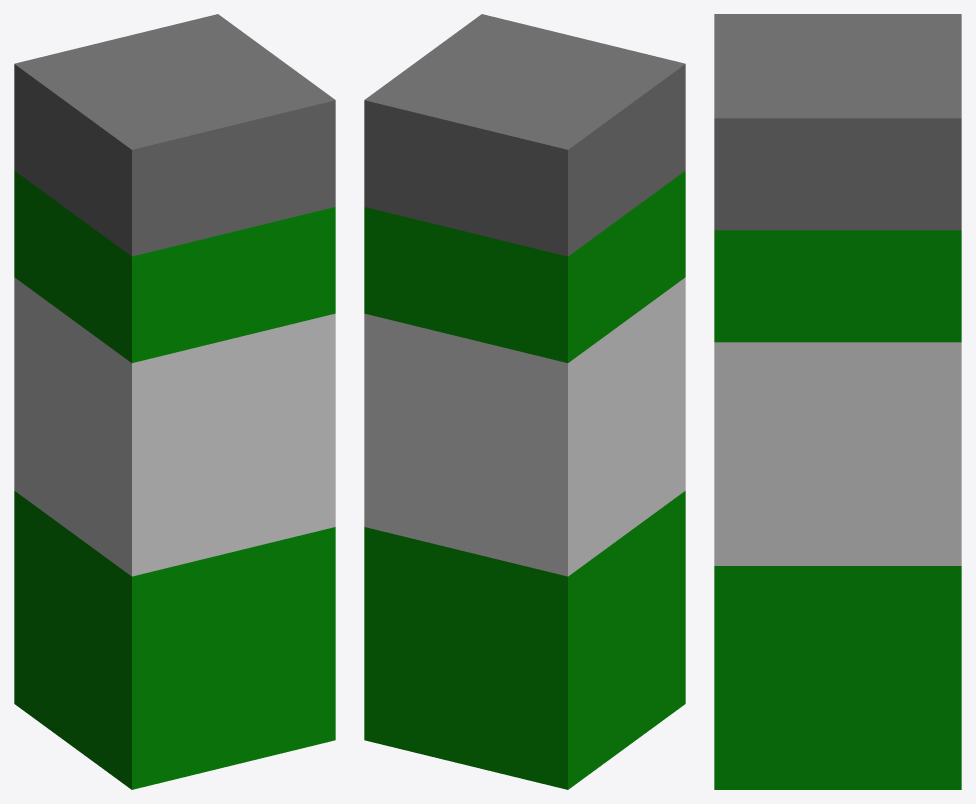
The model's file is F_Garbage2.obj.
3 views of the same model, side by side, from view 1: azimuth 30°, elevation 25°; view 2: azimuth 150°, elevation 25°; view 3: azimuth 270°, elevation 25° (orthographic). The views are drawn at different scales.
Visible parts, largest first — view 1: F_Garbage2; view 2: F_Garbage2; view 3: F_Garbage2.
Part boxes in pixels (x1=…): F_Garbage2: x1=14, y1=14, x2=335, y2=789; F_Garbage2: x1=364, y1=14, x2=685, y2=789; F_Garbage2: x1=714, y1=14, x2=961, y2=789.
Bounding box in the file's own units: 0.2 × 0.6 × 0.2.
Materials: 1 (1 with a texture image).
